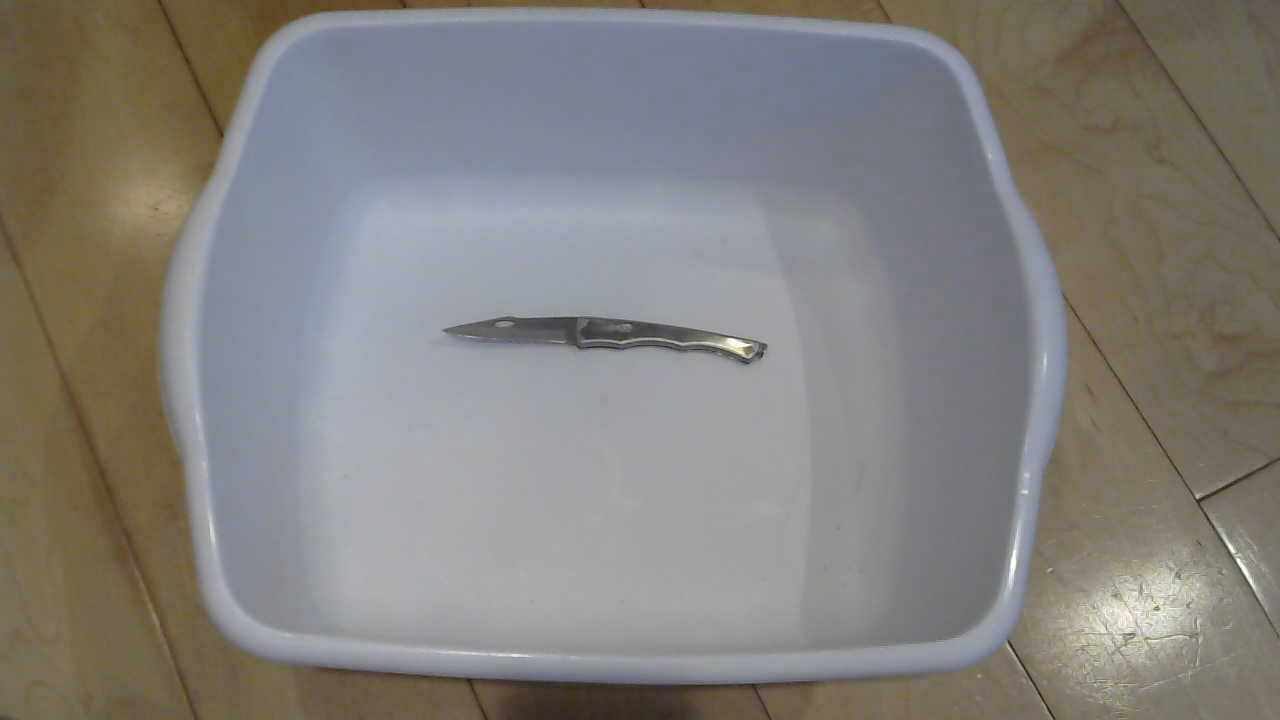knife: (426, 294, 801, 399)
